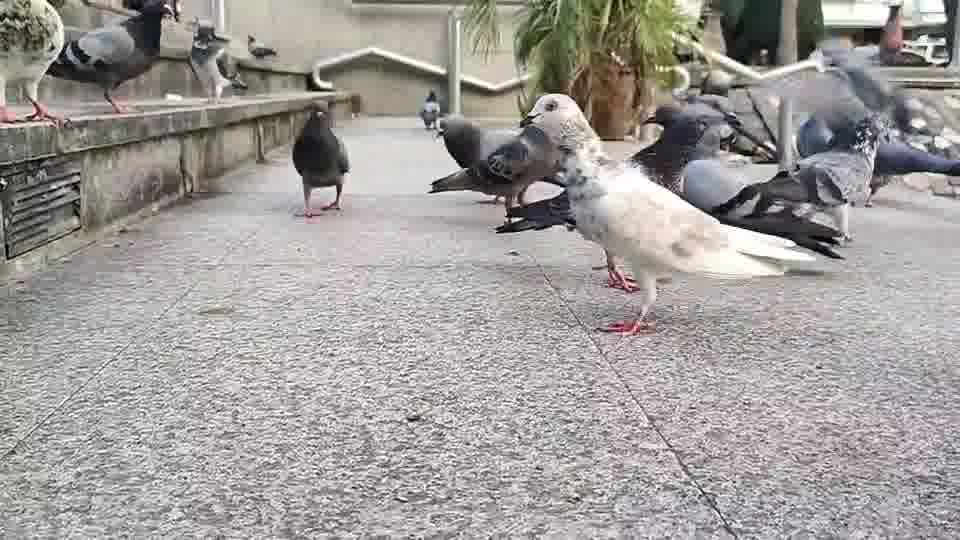Pigeon: (506, 93, 837, 337), (425, 113, 564, 225), (53, 0, 179, 114), (0, 0, 71, 129), (290, 104, 351, 217), (183, 16, 247, 104), (418, 89, 440, 129), (247, 33, 277, 58)
